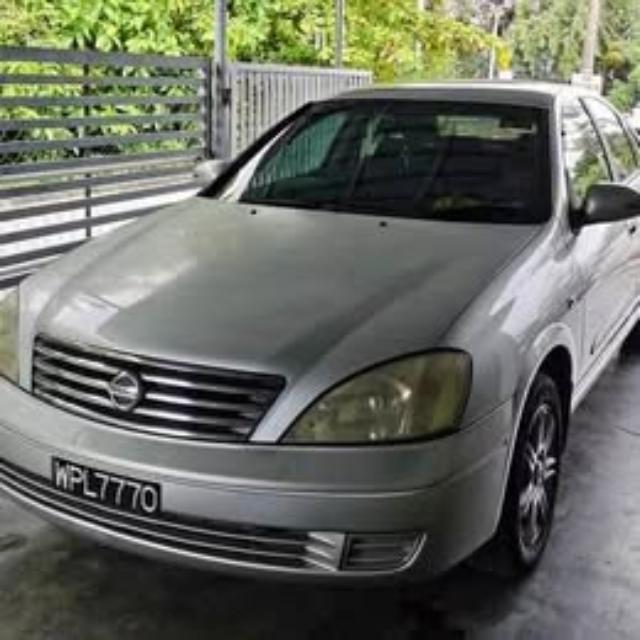License_Plate: (48, 454, 161, 518)
car: (2, 77, 639, 589)
